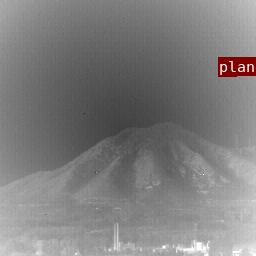plane: (218, 57, 236, 76)
